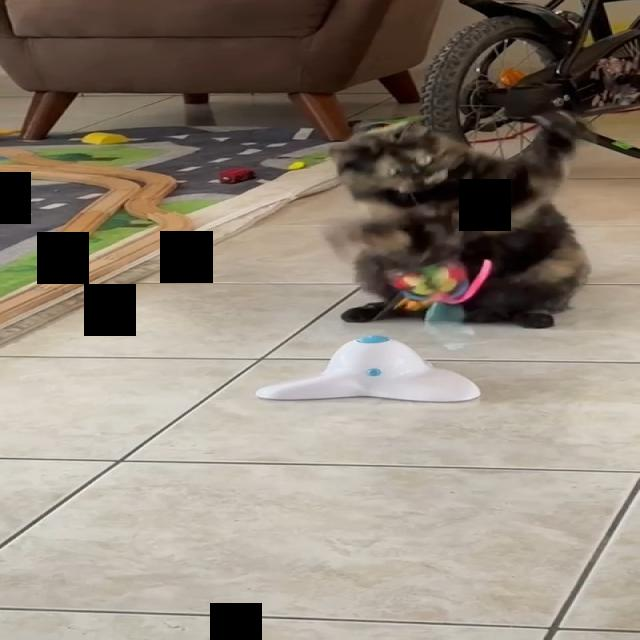authorized: (323, 109, 592, 329)
